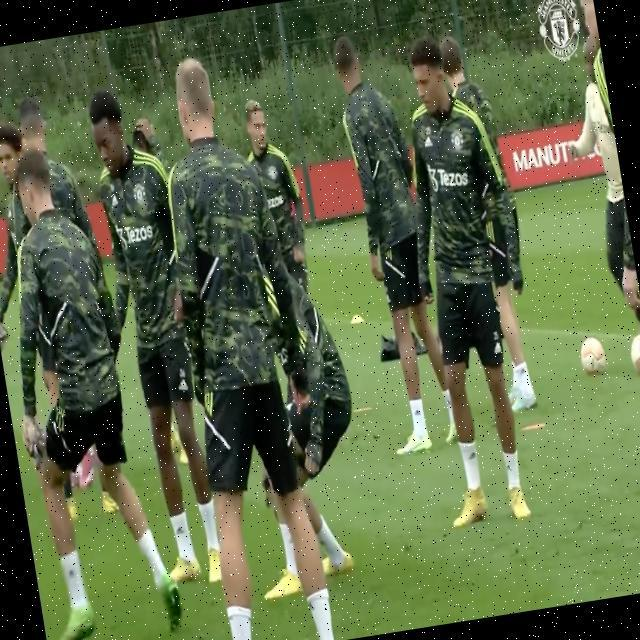Adidas: (424, 134, 436, 150), (494, 340, 505, 357), (178, 380, 190, 393), (110, 194, 121, 208), (175, 523, 186, 537)
